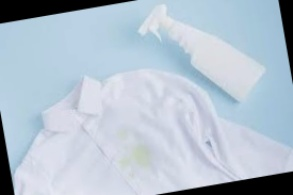oil: (114, 142, 158, 178)
